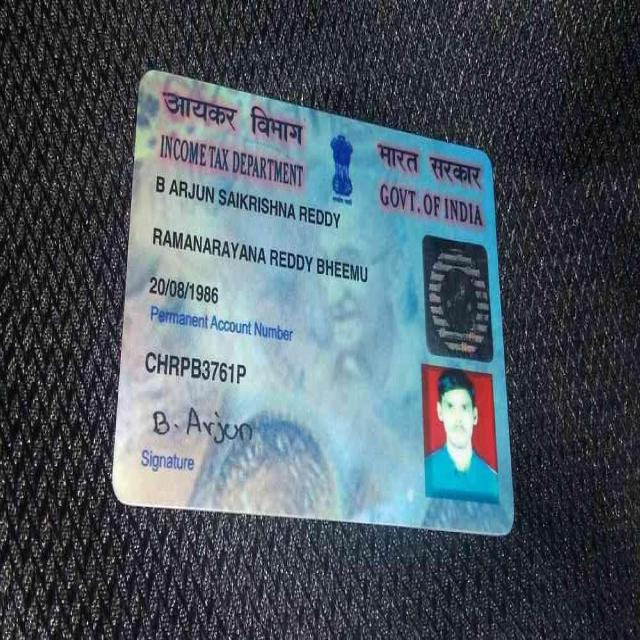pan_card: (110, 71, 512, 533)
